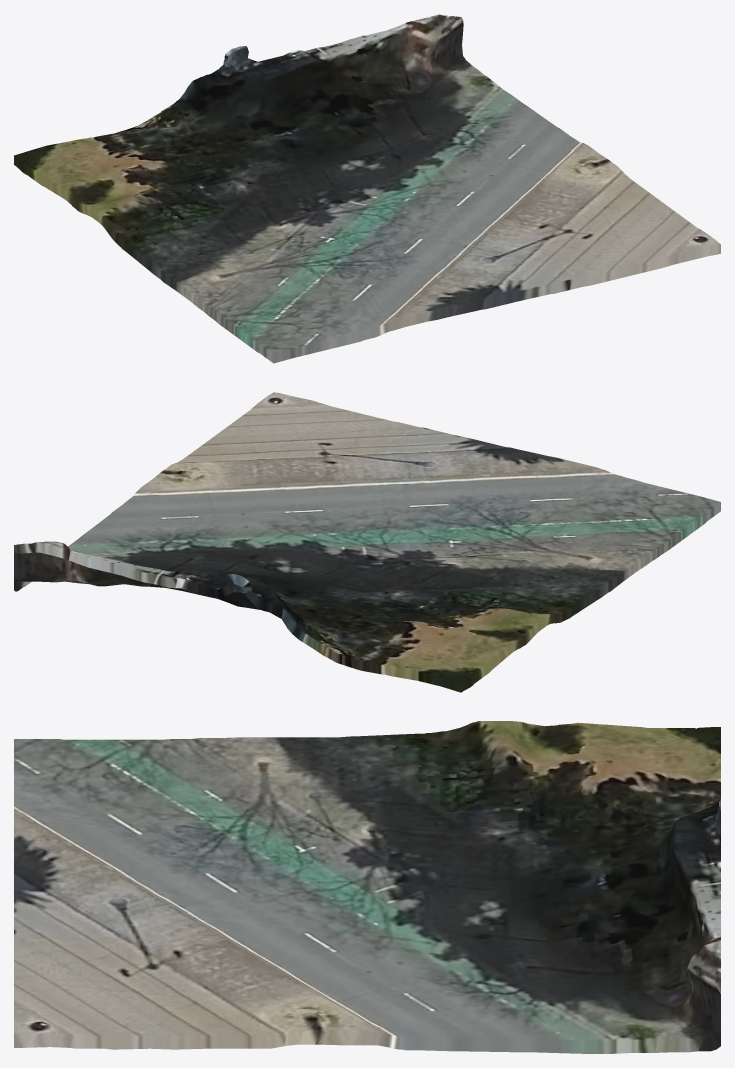
Rendered from z20-167767-405191-h0-yup-uvflip-v3-world.glb.
3 renders of one model, top to bottom at view 1: azimuth 30°, elevation 25°; view 2: azimuth 150°, elevation 25°; view 3: azimuth 270°, elevation 25°, orthographic. The views are drawn at different scales.
Size of the model in its own units: 30.16 by 4.88 by 30.32.
Materials: 1 (1 with a texture image).
